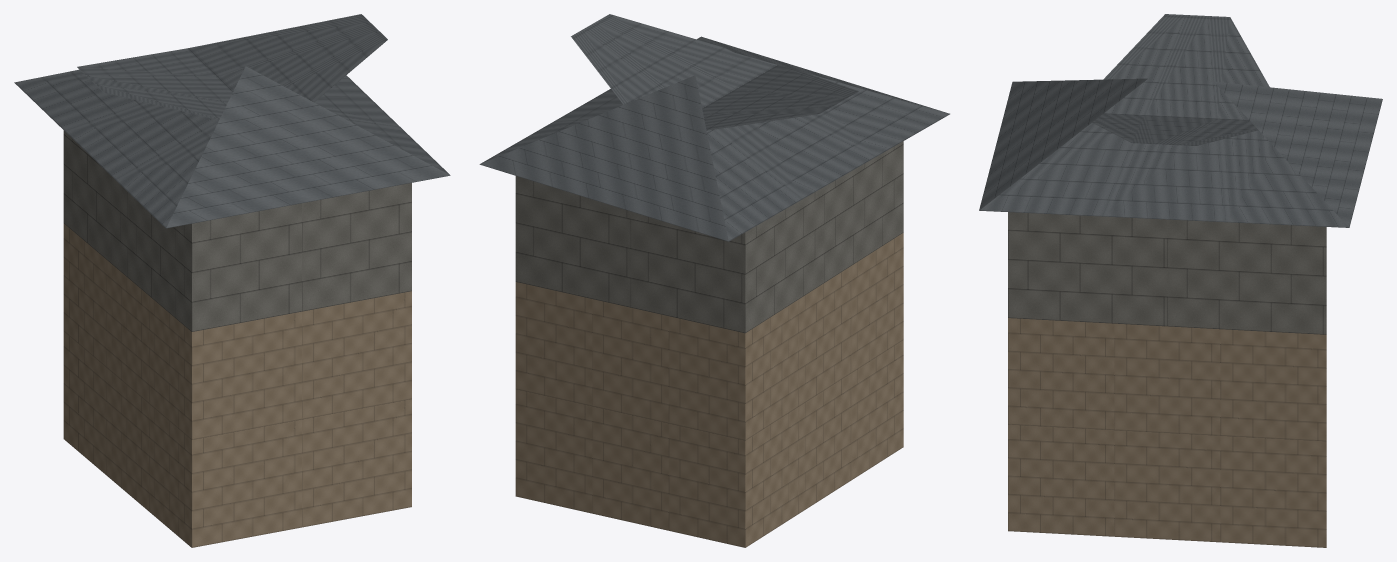
The model's file is bld_c33_-37_444.gltf.
3 views of the same model, side by side, from view 1: azimuth 30°, elevation 25°; view 2: azimuth 150°, elevation 25°; view 3: azimuth 270°, elevation 25° (orthographic).
Visible parts, largest first — view 1: bld_c33_-37_444; view 2: bld_c33_-37_444; view 3: bld_c33_-37_444.
Boxes of the visible parts, <box> form: bld_c33_-37_444: <box>14,14,450,547</box>; bld_c33_-37_444: <box>479,14,949,547</box>; bld_c33_-37_444: <box>979,14,1382,547</box>.
Bounding box in the file's own units: 6.71 × 8.7 × 7.83.
3 materials, 3 textured.
